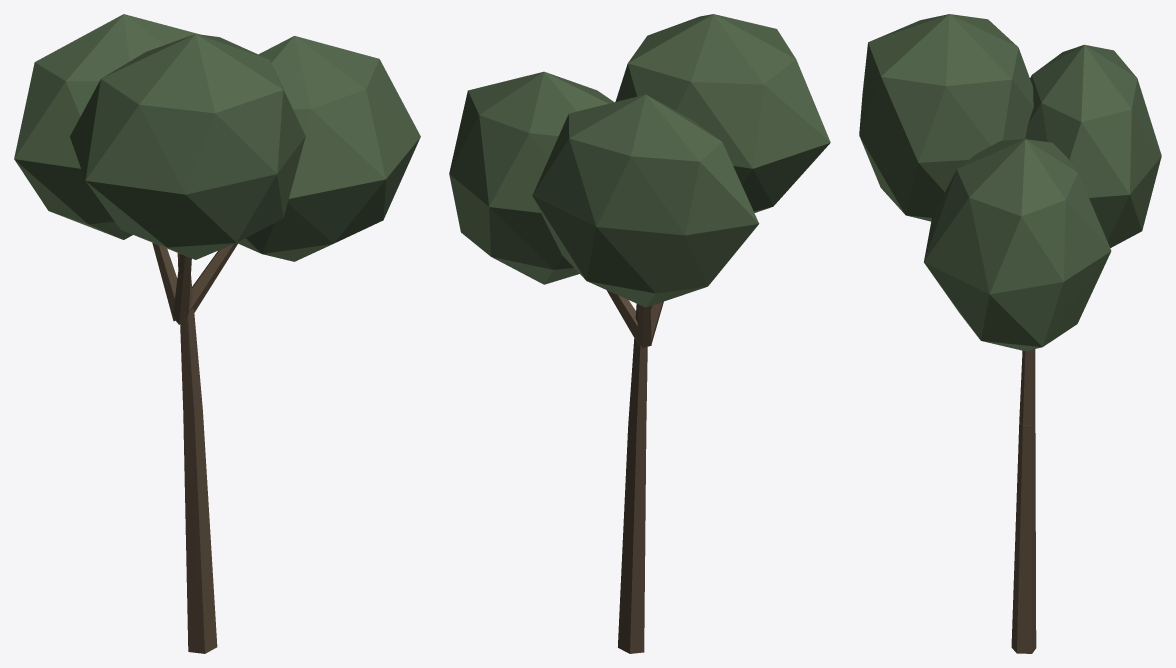
3 renders of one model, left to right at view 1: azimuth 30°, elevation 25°; view 2: azimuth 150°, elevation 25°; view 3: azimuth 270°, elevation 25°, orthographic. The views are drawn at different scales.
Visible parts, largest first — view 1: pine-previous; view 2: pine-previous; view 3: pine-previous.
Part boxes in pixels (x1,y1,x2,y2): pine-previous: [14, 14, 420, 653]; pine-previous: [449, 14, 830, 653]; pine-previous: [859, 14, 1161, 653].
Size of the model in its own units: 15.31 by 26.36 by 11.75.
